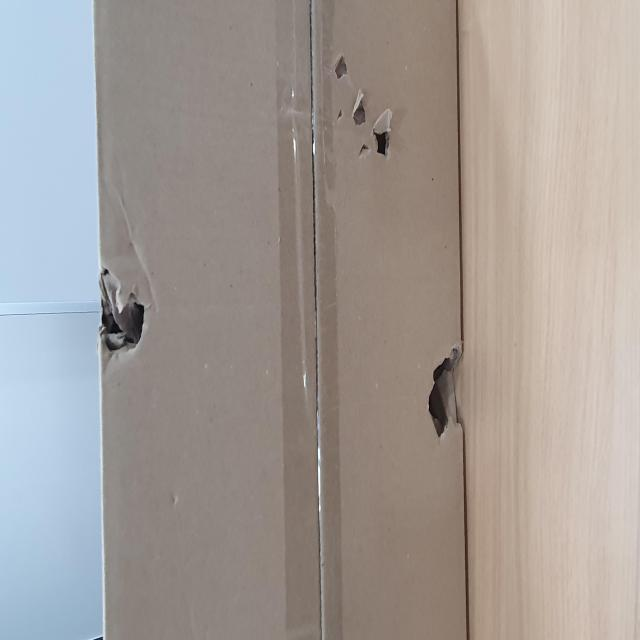damaged: (152, 176, 218, 270), (283, 621, 310, 640)
